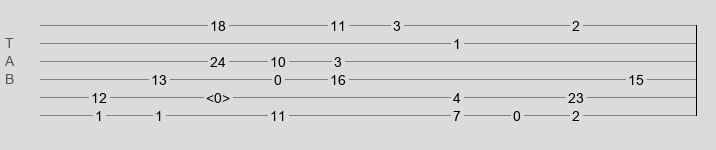0: (274, 72, 282, 82), (513, 108, 521, 118)
1: (95, 108, 103, 118), (155, 108, 163, 118), (453, 36, 461, 46)
10: (270, 54, 286, 64)
11: (270, 108, 286, 118), (330, 18, 346, 28)
12: (91, 90, 107, 100)
13: (151, 72, 167, 82)
15: (628, 72, 644, 82)
16: (330, 72, 346, 82)
18: (210, 18, 226, 28)
2: (572, 108, 580, 118), (572, 18, 580, 28)
23: (568, 90, 584, 100)
24: (210, 54, 226, 64)
3: (334, 54, 342, 64), (393, 18, 401, 28)
4: (453, 90, 461, 100)
7: (453, 108, 461, 118)
harmonic: (206, 90, 230, 100)
